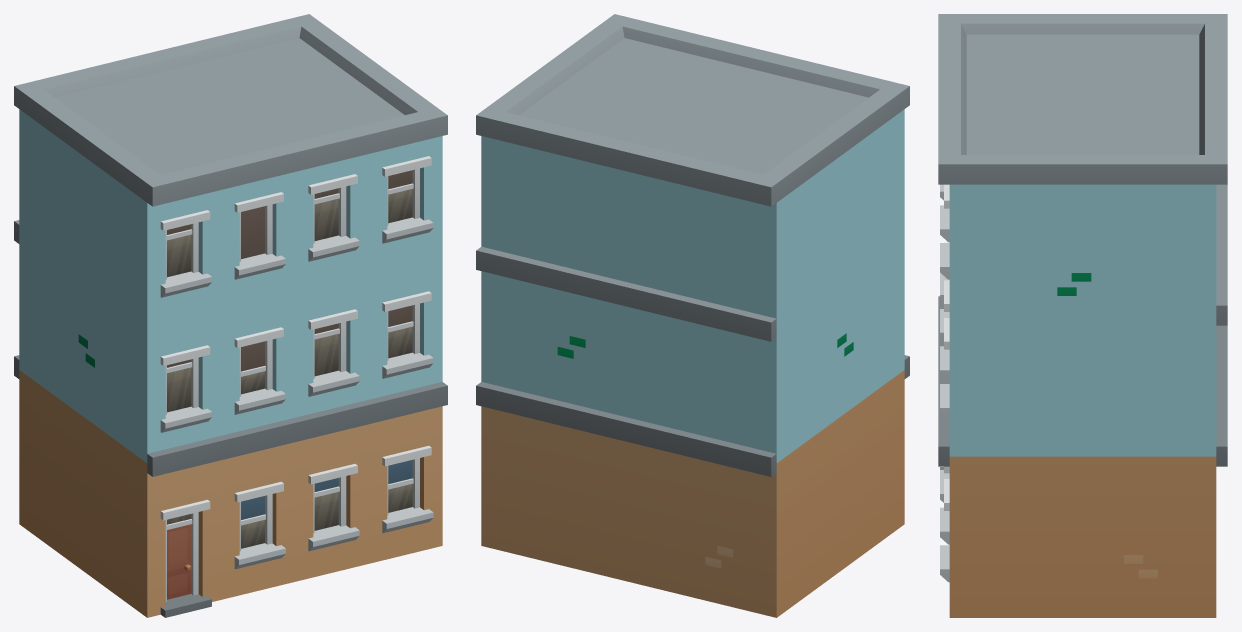
The model's file is nha6.glb.
3 views of the same model, side by side, from view 1: azimuth 30°, elevation 25°; view 2: azimuth 150°, elevation 25°; view 3: azimuth 270°, elevation 25° (orthographic). The views are drawn at different scales.
Parts seen in each view (by area): view 1: building_D_withoutBase_Cube.942; view 2: building_D_withoutBase_Cube.942; view 3: building_D_withoutBase_Cube.942.
Part boxes in pixels (box(x1,y1,x2,y2)): building_D_withoutBase_Cube.942: box(14, 14, 447, 617); building_D_withoutBase_Cube.942: box(476, 14, 909, 617); building_D_withoutBase_Cube.942: box(938, 14, 1227, 617).
Bounding box in the file's own units: 1.61 × 2.25 × 1.3.
Materials: 2 (1 with a texture image).
